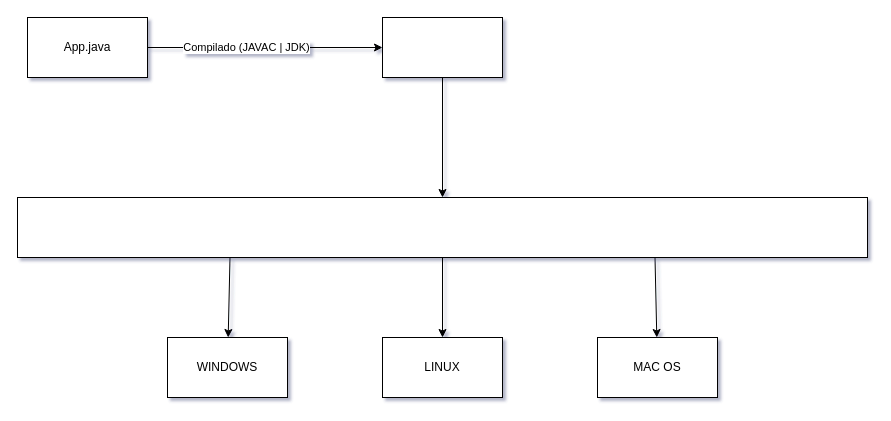
Some shapes in this 891 by 421 pixel diagram are drawn without their labels. Here are the shapes that lost their labels. From the top down, the box of each, then its label:
(382, 16, 502, 78): App.class
(16, 196, 868, 258): JAVA VIRTUAL MACHINE
